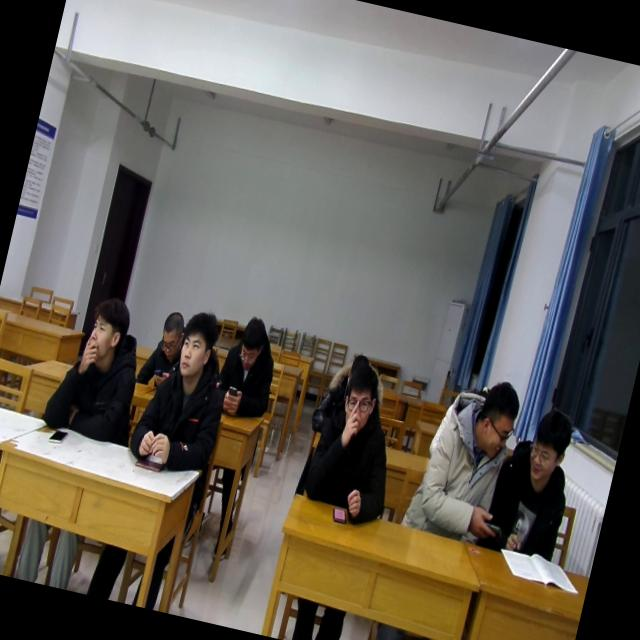bow: (209, 310, 289, 426), (308, 340, 393, 440)
down: (232, 308, 272, 376), (152, 300, 188, 361)
lookup: (76, 290, 136, 374), (170, 302, 227, 388), (332, 357, 387, 444)
sit: (398, 360, 524, 550), (124, 298, 245, 484), (296, 356, 414, 526), (37, 285, 156, 449), (478, 397, 589, 564), (132, 302, 195, 394)
